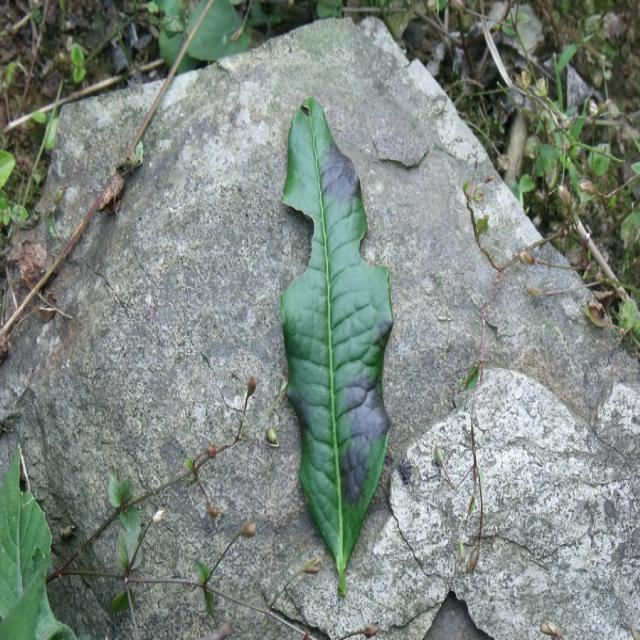Tea exobasidium blight: (334, 316, 403, 495), (319, 139, 371, 212)
